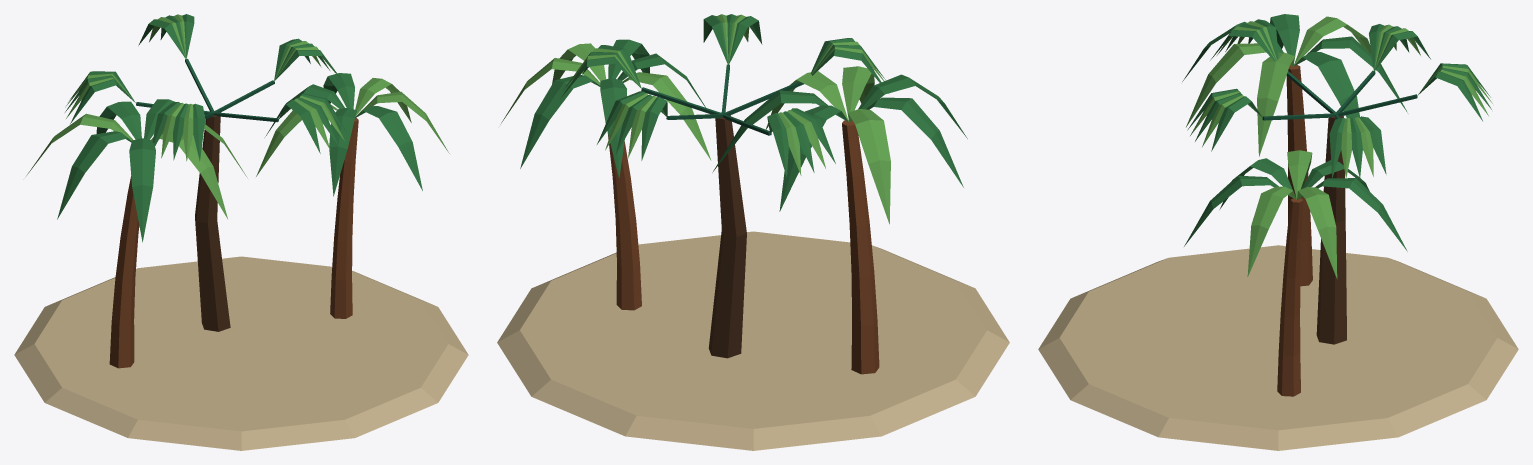
File: Tropical_PalmGrove_Simple.glb
3 renders of one model, left to right at view 1: azimuth 30°, elevation 25°; view 2: azimuth 150°, elevation 25°; view 3: azimuth 270°, elevation 25°, orthographic. The views are drawn at different scales.
Parts seen in each view (by area): view 1: Tropical_PalmGrove_Simple; view 2: Tropical_PalmGrove_Simple; view 3: Tropical_PalmGrove_Simple.
Boxes of the visible parts, x1=… form: Tropical_PalmGrove_Simple: x1=14, y1=14, x2=468, y2=450; Tropical_PalmGrove_Simple: x1=497, y1=14, x2=1009, y2=450; Tropical_PalmGrove_Simple: x1=1038, y1=14, x2=1518, y2=450.
Bounding box in the file's own units: 9.03 × 5.97 × 9.
